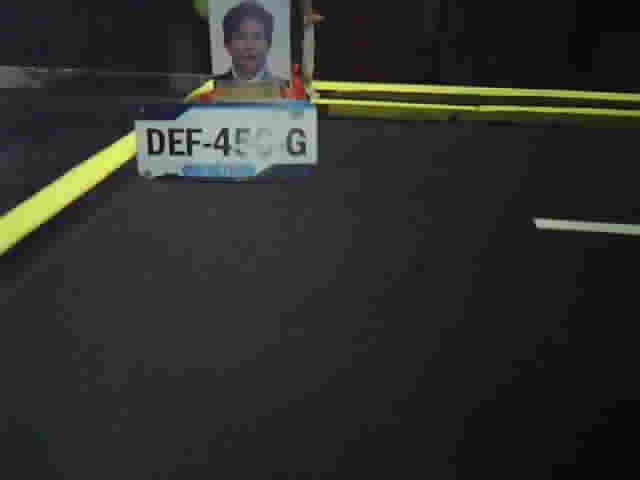PLACA: (132, 100, 319, 186)
ROSTRO: (210, 1, 289, 88)
